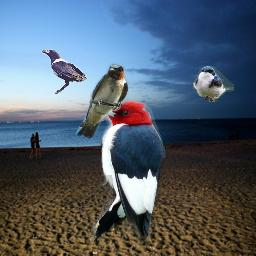Crow: (41, 49, 89, 94)
Swallow: (75, 63, 129, 139), (193, 66, 234, 102)
Woodpecker: (90, 96, 167, 246)
